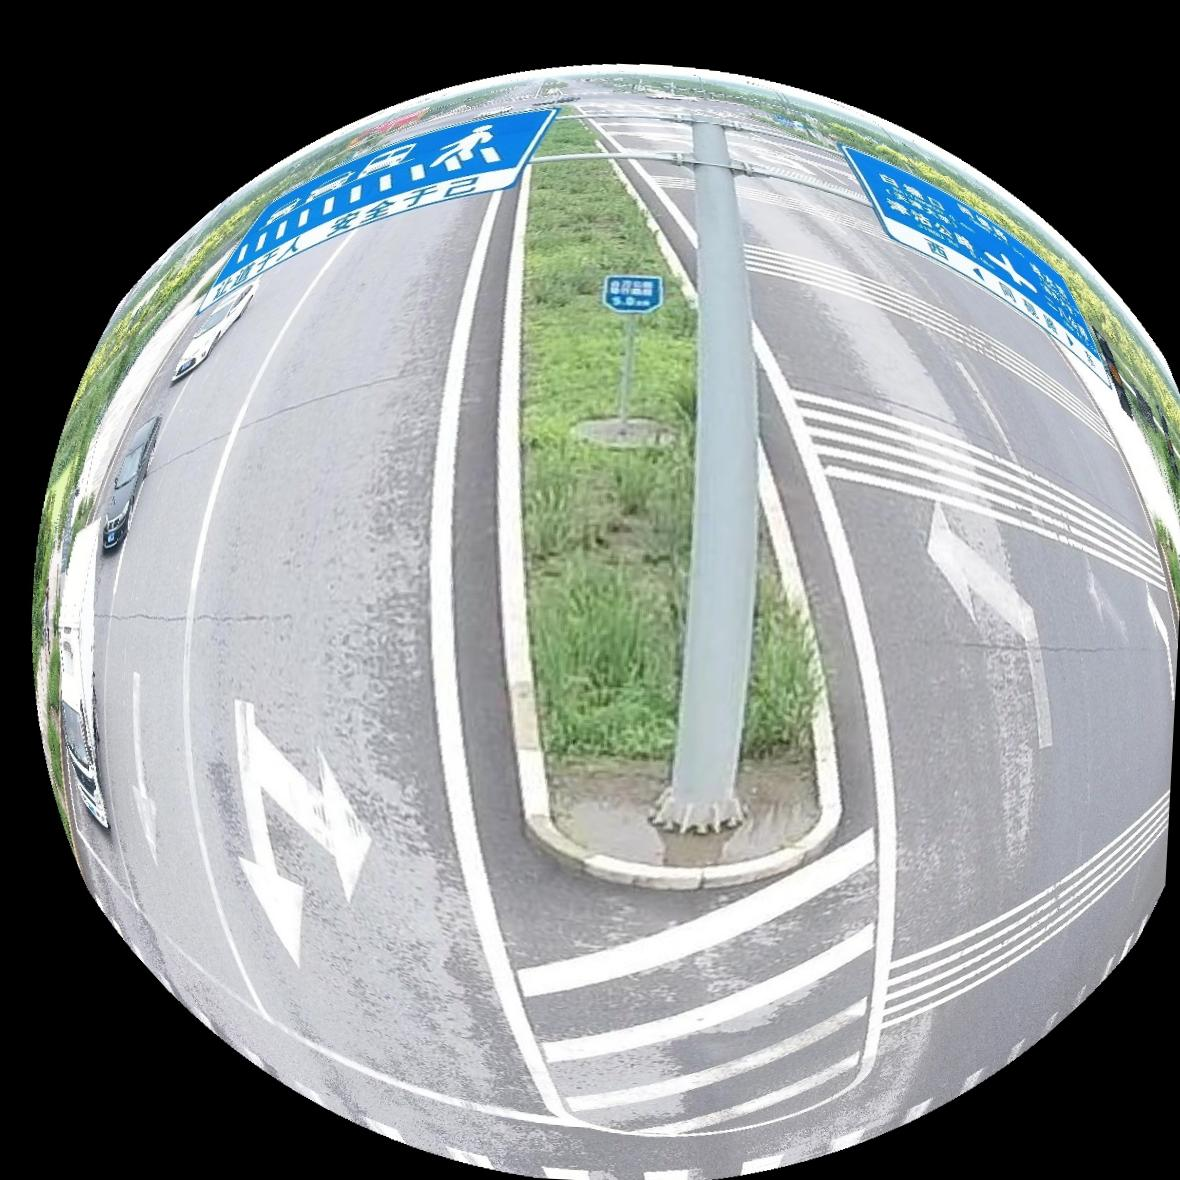cars: (56, 523, 106, 829), (171, 278, 257, 381), (99, 416, 158, 552)
